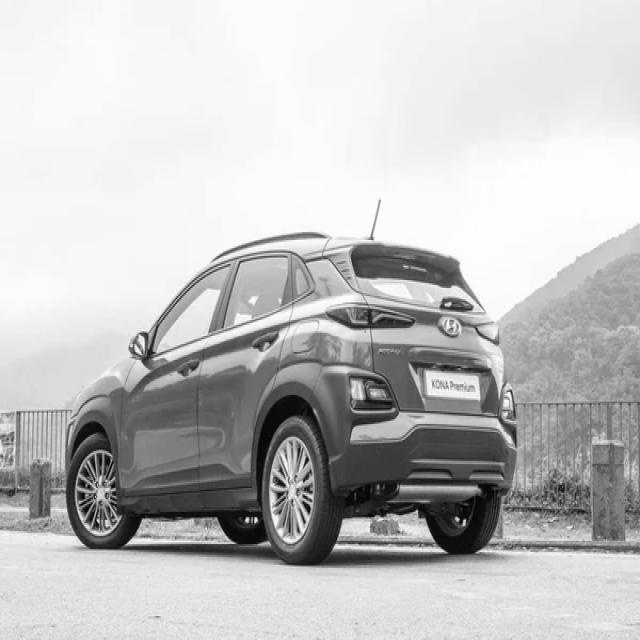Car: (65, 234, 521, 564)
